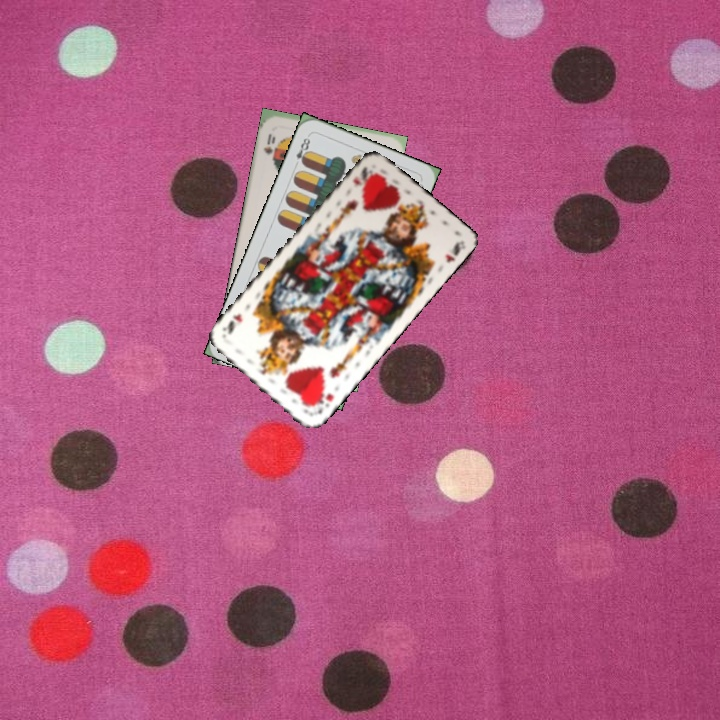E8: (290, 131, 313, 170)
HK: (306, 388, 336, 417), (349, 163, 371, 189)
SO: (259, 130, 278, 163)
